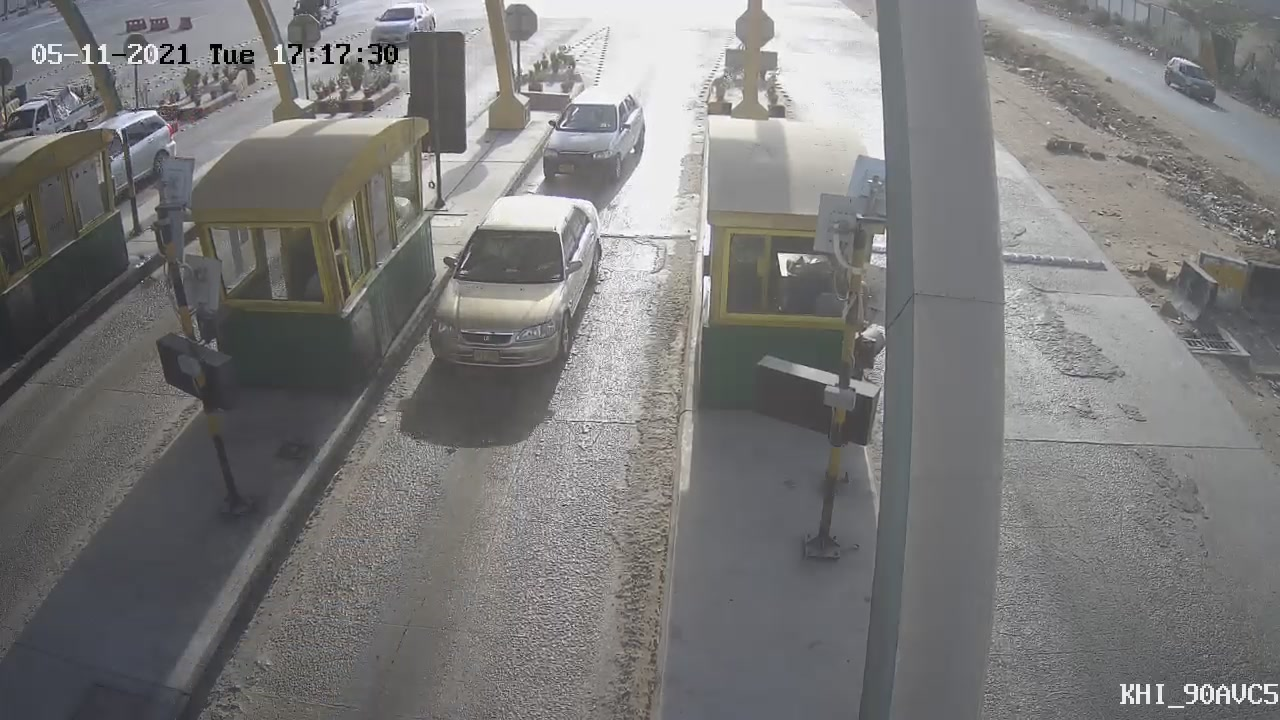F1: (403, 179, 618, 391), (529, 77, 660, 196)
